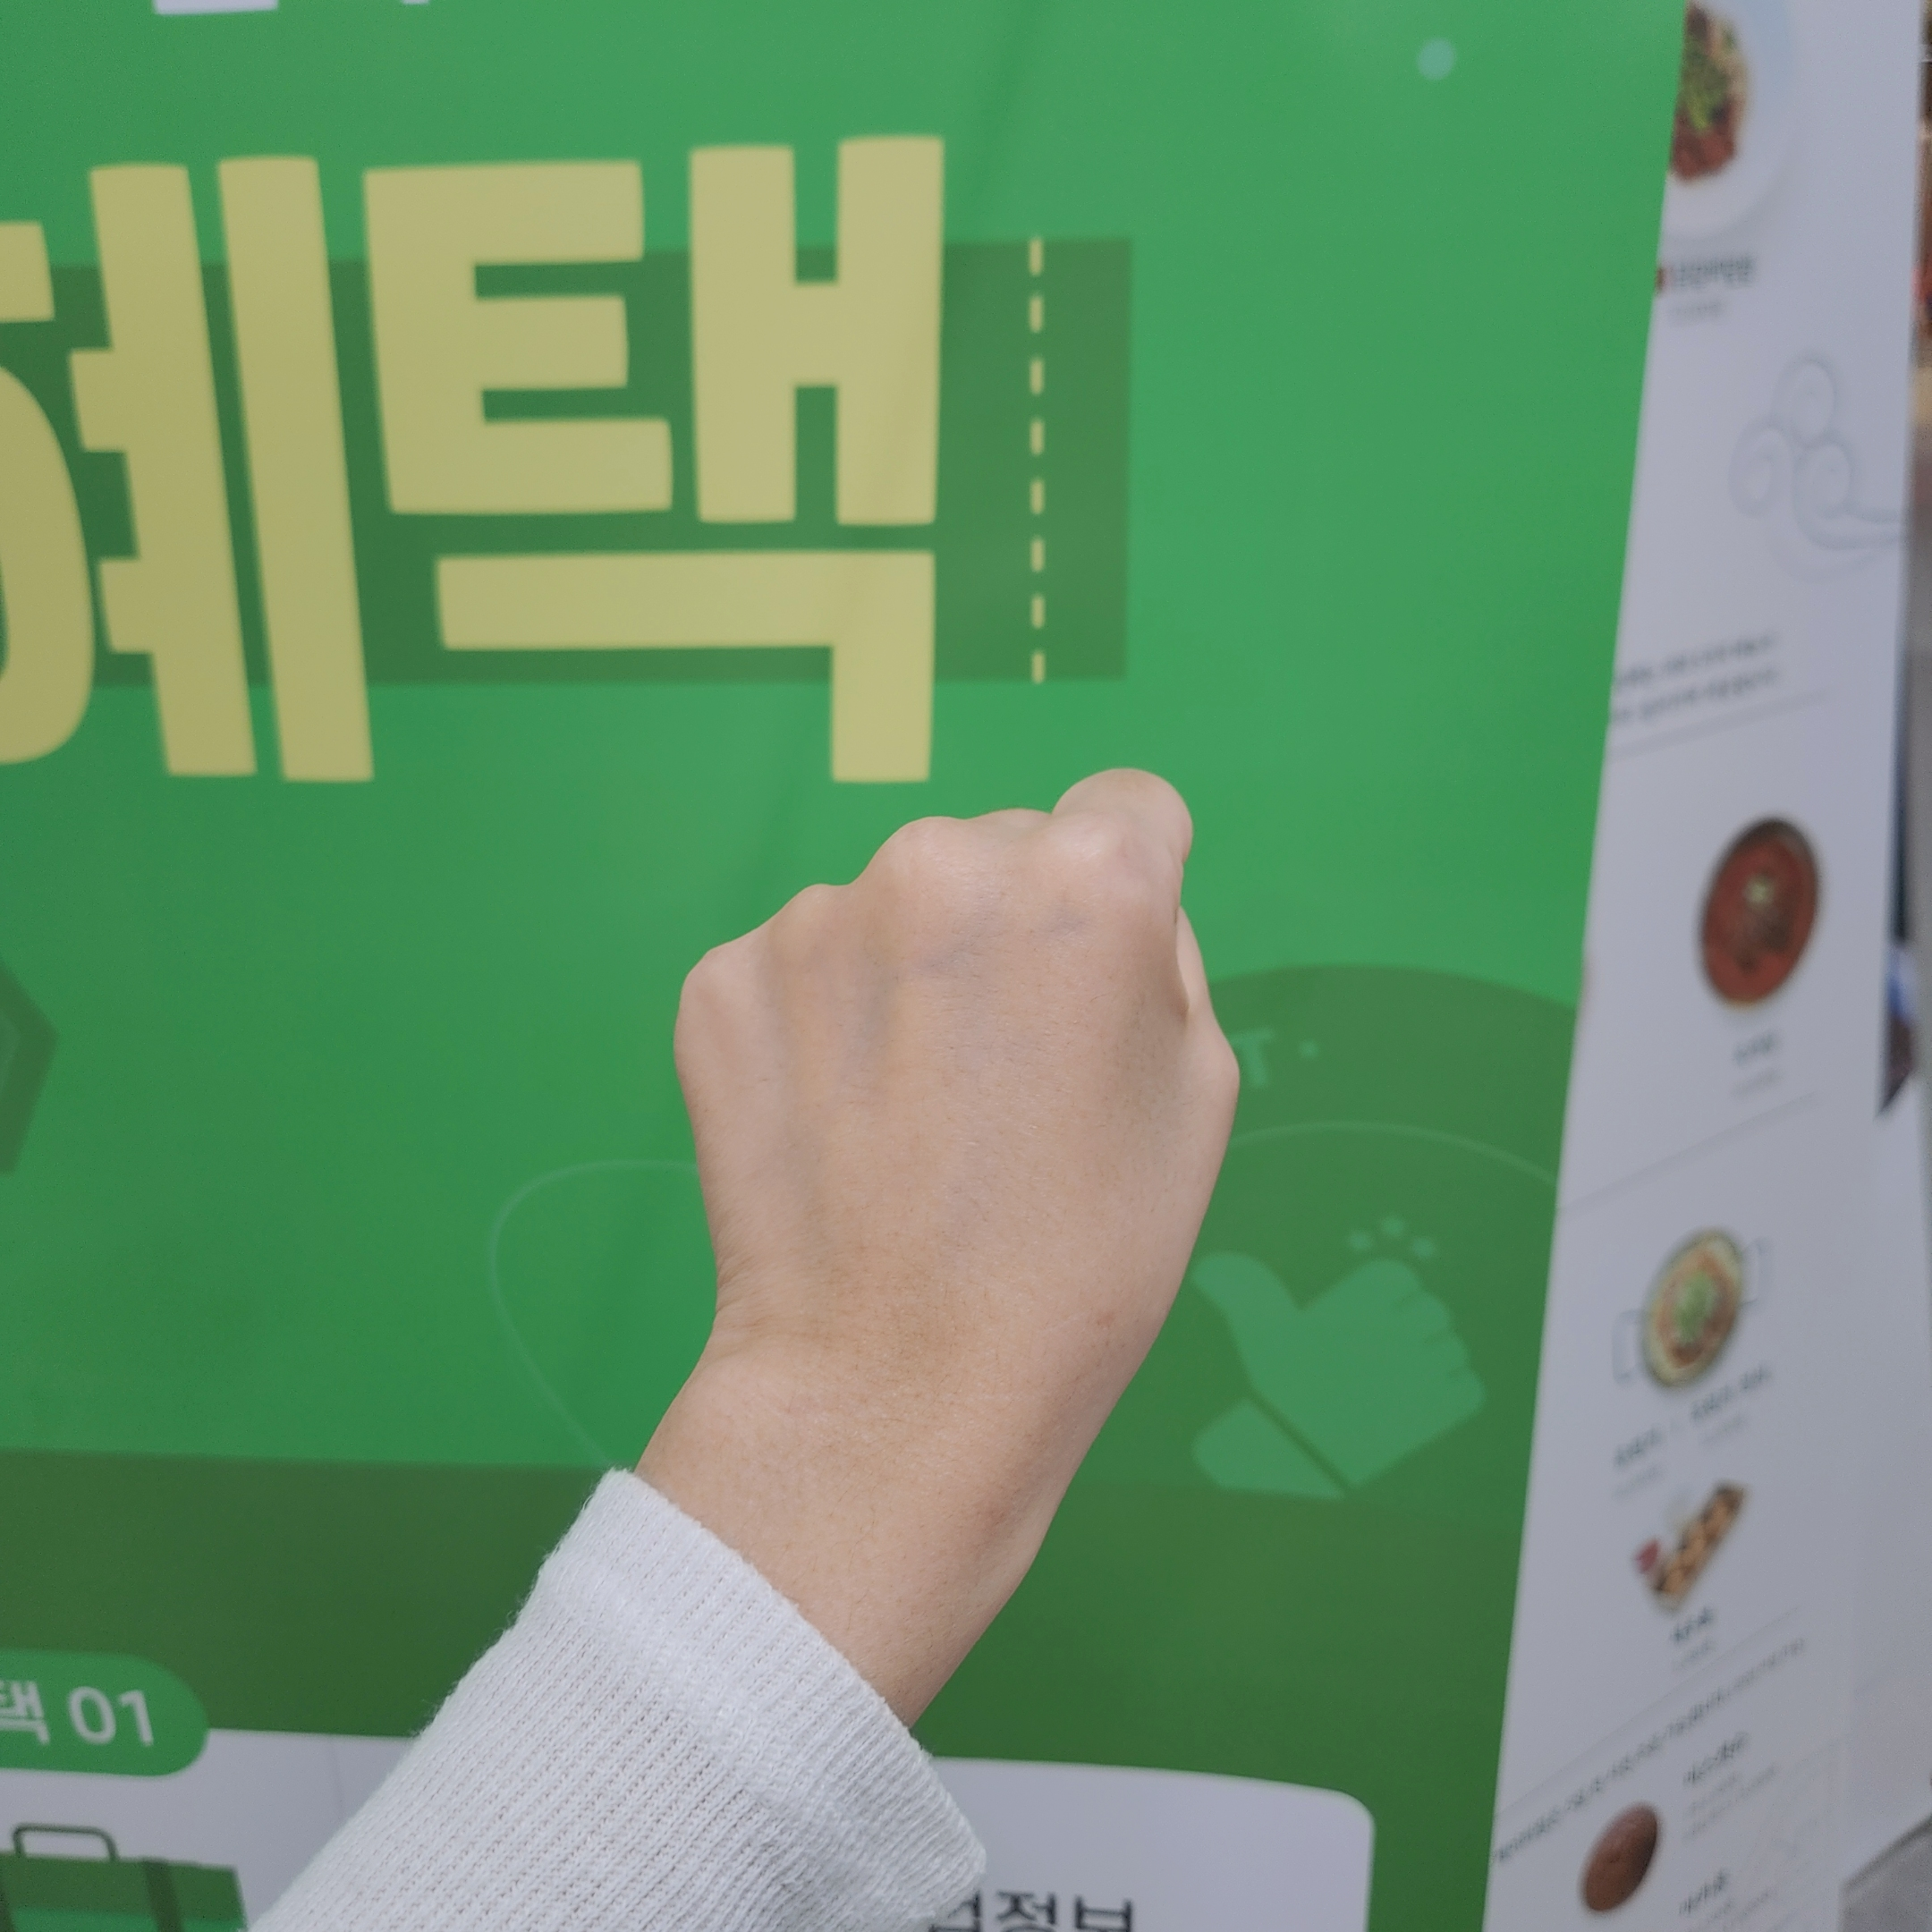smile: (670, 762, 1250, 1473)
